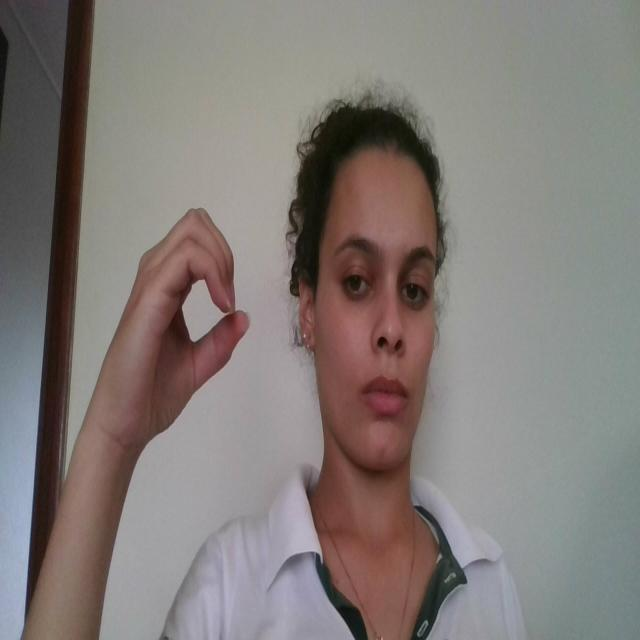O: (118, 204, 258, 436)
